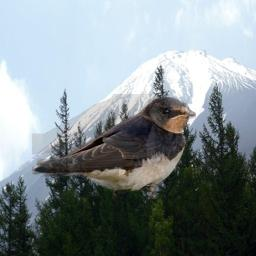Swallow: (32, 94, 196, 199)
